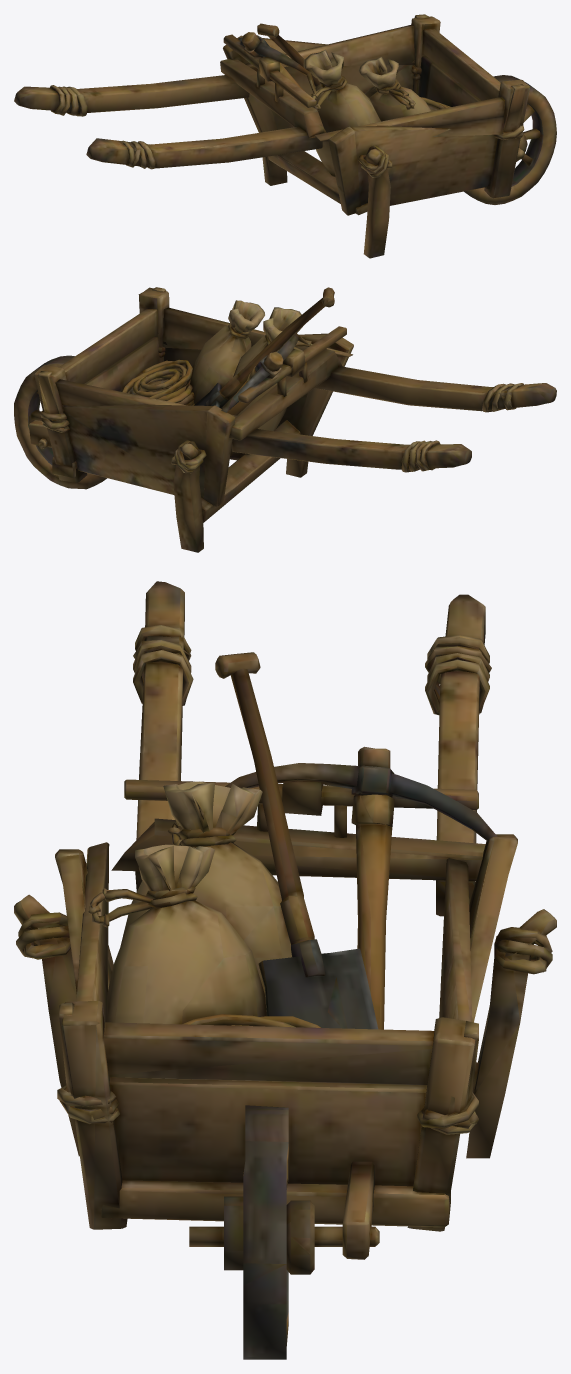
File: wheelbarrow.glb
3 views of the same model, one above another, from view 1: azimuth 30°, elevation 25°; view 2: azimuth 150°, elevation 25°; view 3: azimuth 270°, elevation 25° (orthographic). The views are drawn at different scales.
Visible parts, largest first — view 1: tripo_node_c1a13213-577b-4715-84fe-e1498cbc93c1; view 2: tripo_node_c1a13213-577b-4715-84fe-e1498cbc93c1; view 3: tripo_node_c1a13213-577b-4715-84fe-e1498cbc93c1.
Part boxes in pixels (x1=…): tripo_node_c1a13213-577b-4715-84fe-e1498cbc93c1: x1=14, y1=14, x2=556, y2=258; tripo_node_c1a13213-577b-4715-84fe-e1498cbc93c1: x1=14, y1=287, x2=556, y2=552; tripo_node_c1a13213-577b-4715-84fe-e1498cbc93c1: x1=14, y1=581, x2=556, y2=1359.
Size of the model in its own units: 0.998 by 0.4668 by 0.4902.
Materials: 1 (1 with a texture image).
